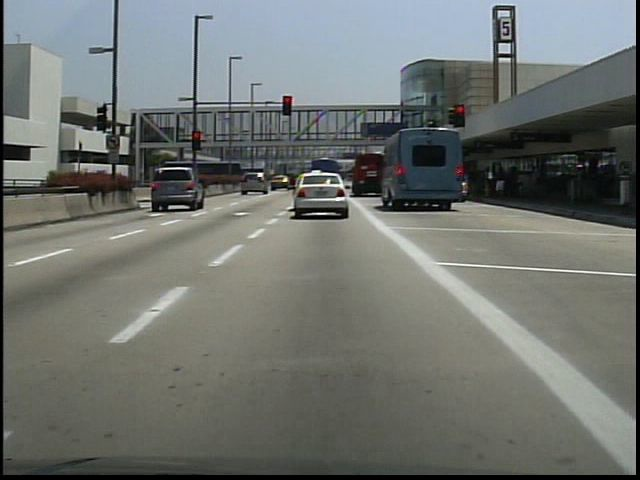person: (493, 165, 507, 204)
